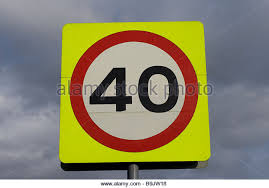Speed_limit_40km: (67, 30, 200, 152)
